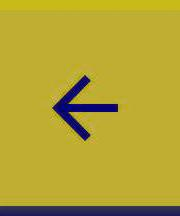ImgButton: (1, 1, 179, 215)
